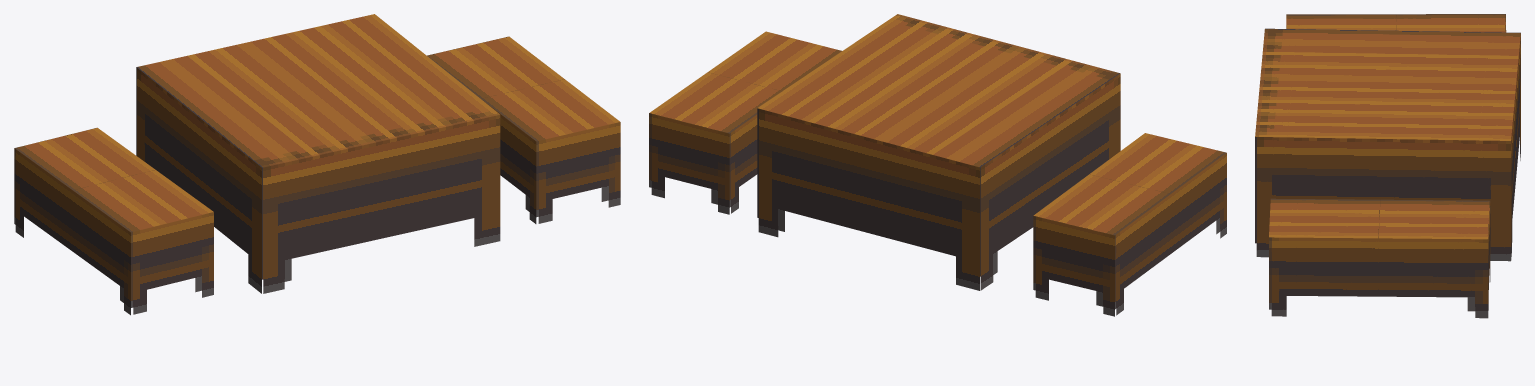
Rendered from table.glb.
3 renders of one model, left to right at view 1: azimuth 30°, elevation 25°; view 2: azimuth 150°, elevation 25°; view 3: azimuth 270°, elevation 25°, orthographic. The views are drawn at different scales.
Parts seen in each view (by area): view 1: Scenario.012; view 2: Scenario.012; view 3: Scenario.012.
Boxes of the visible parts, left/top/right/bottom form: Scenario.012: left=14, top=14, right=620, bottom=315; Scenario.012: left=649, top=14, right=1226, bottom=316; Scenario.012: left=1255, top=14, right=1520, bottom=318.
Size of the model in its own units: 3.64 by 1.31 by 1.82.
1 material, 1 textured.
